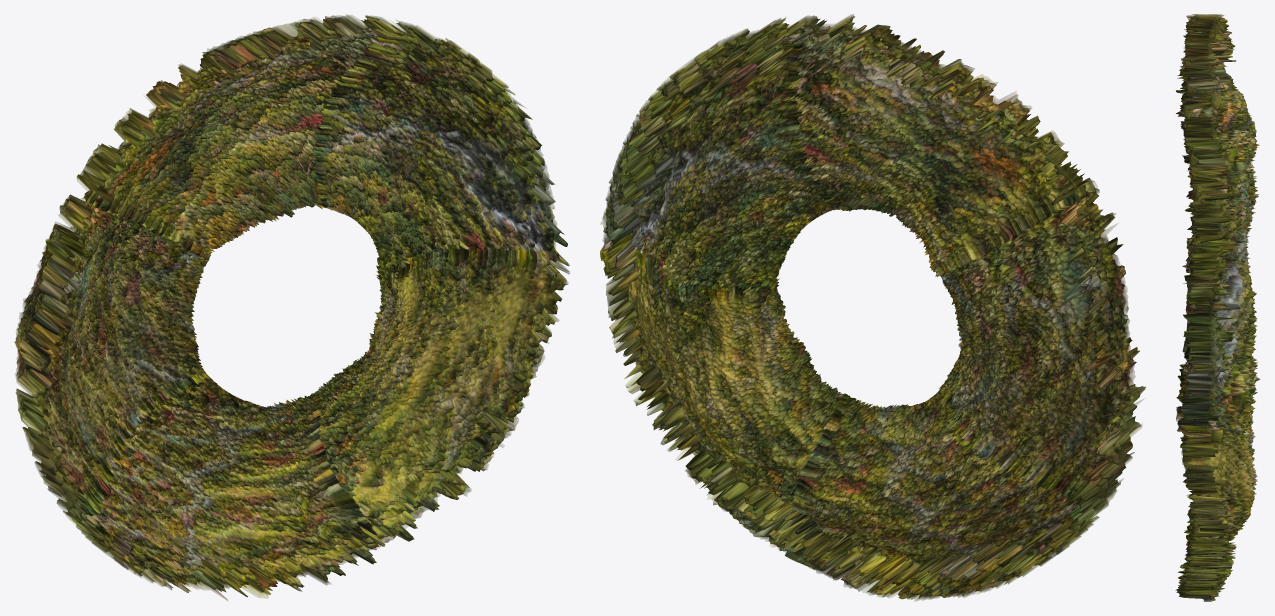
Rendered from hero-wheel-biome-surface.glb.
The picture shows the model from 3 angles, left to right: view 1: azimuth 30°, elevation 25°; view 2: azimuth 150°, elevation 25°; view 3: azimuth 270°, elevation 25°; orthographic projection. The views are drawn at different scales.
Parts seen in each view (by area): view 1: BIOME SURFACE / five families / twenty-five landscapes; view 2: BIOME SURFACE / five families / twenty-five landscapes; view 3: BIOME SURFACE / five families / twenty-five landscapes.
Boxes of the visible parts, left/top/right/bottom form: BIOME SURFACE / five families / twenty-five landscapes: left=14, top=14, right=570, bottom=600; BIOME SURFACE / five families / twenty-five landscapes: left=600, top=14, right=1145, bottom=601; BIOME SURFACE / five families / twenty-five landscapes: left=1175, top=14, right=1260, bottom=601.
Size of the model in its own units: 3.5 by 3.5 by 0.5112.
1 material, 1 textured.
